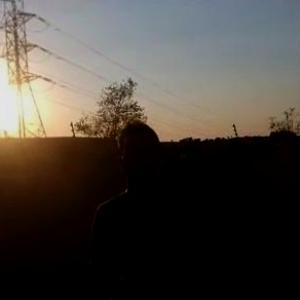follow: (88, 117, 213, 299)
